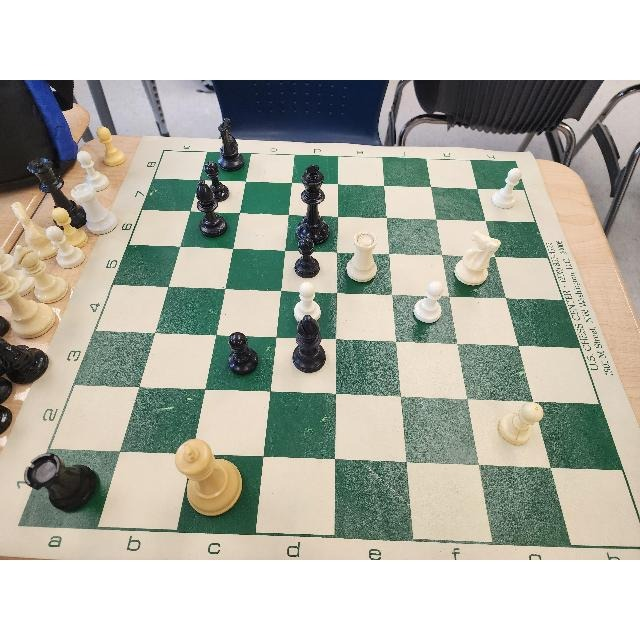black-bishop: (193, 176, 229, 240), (292, 314, 328, 376)
black-king: (293, 163, 333, 243)
black-knight: (214, 115, 246, 173)
black-pawn: (226, 328, 261, 380), (201, 159, 230, 205), (292, 236, 322, 280)
black-rook: (19, 448, 101, 519)
white-king: (172, 431, 243, 519)
white-knight: (452, 230, 501, 292)
white-pawn: (494, 401, 546, 450), (413, 279, 447, 327), (291, 279, 327, 323), (491, 168, 523, 212)
white-rook: (343, 229, 385, 289)
